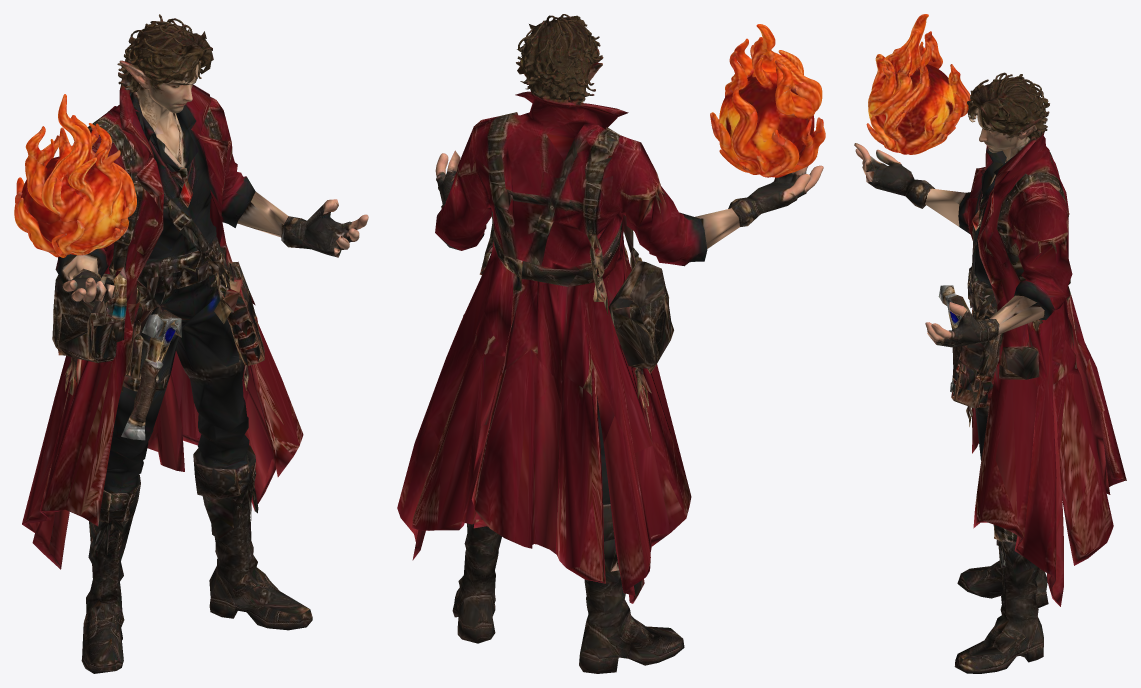
File: zepha-meshy.glb
3 views of the same model, side by side, from view 1: azimuth 30°, elevation 25°; view 2: azimuth 150°, elevation 25°; view 3: azimuth 270°, elevation 25° (orthographic). The views are drawn at different scales.
Visible parts, largest first — view 1: zepha_lod0; view 2: zepha_lod0; view 3: zepha_lod0.
Part boxes in pixels (<box>): zepha_lod0: <box>14,14,368,673</box>; zepha_lod0: <box>397,14,825,673</box>; zepha_lod0: <box>854,14,1126,673</box>.
Size of what is drawn, in the model's own units: 0.7322 by 1.18 by 0.534.
2 materials, 2 textured.
